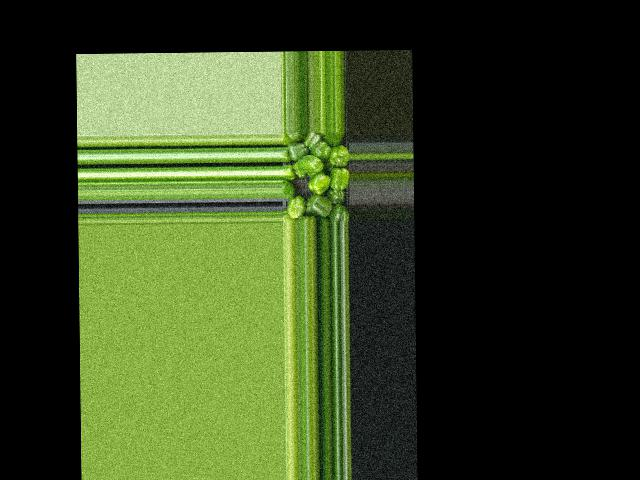bell_pepper: (320, 131, 339, 146)
